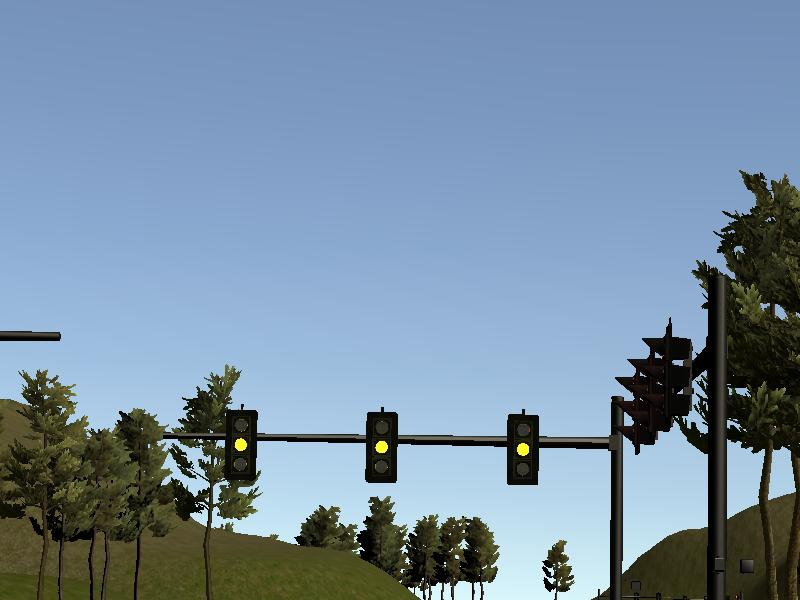Yellow: (366, 412, 396, 482)
